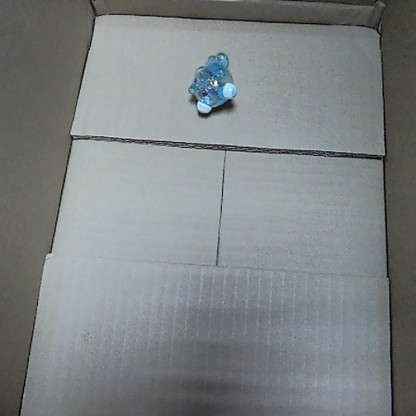bluefish: (187, 45, 239, 119)
